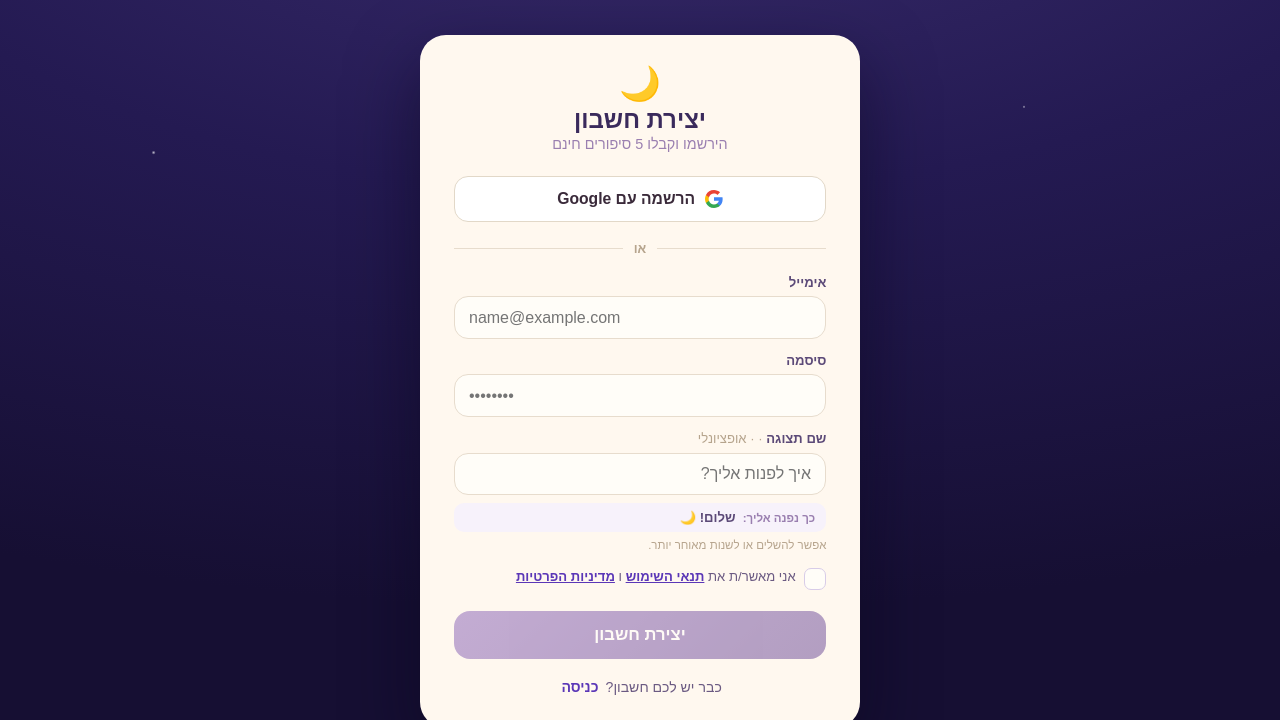
Scenario: Auth page — mobile/MIUI freeze guard › Google button shows '…' immediately after click (user sees feedback)
Click the button "הרשמה עם Google". click: click(640, 199)
box: [454,176,826,222]
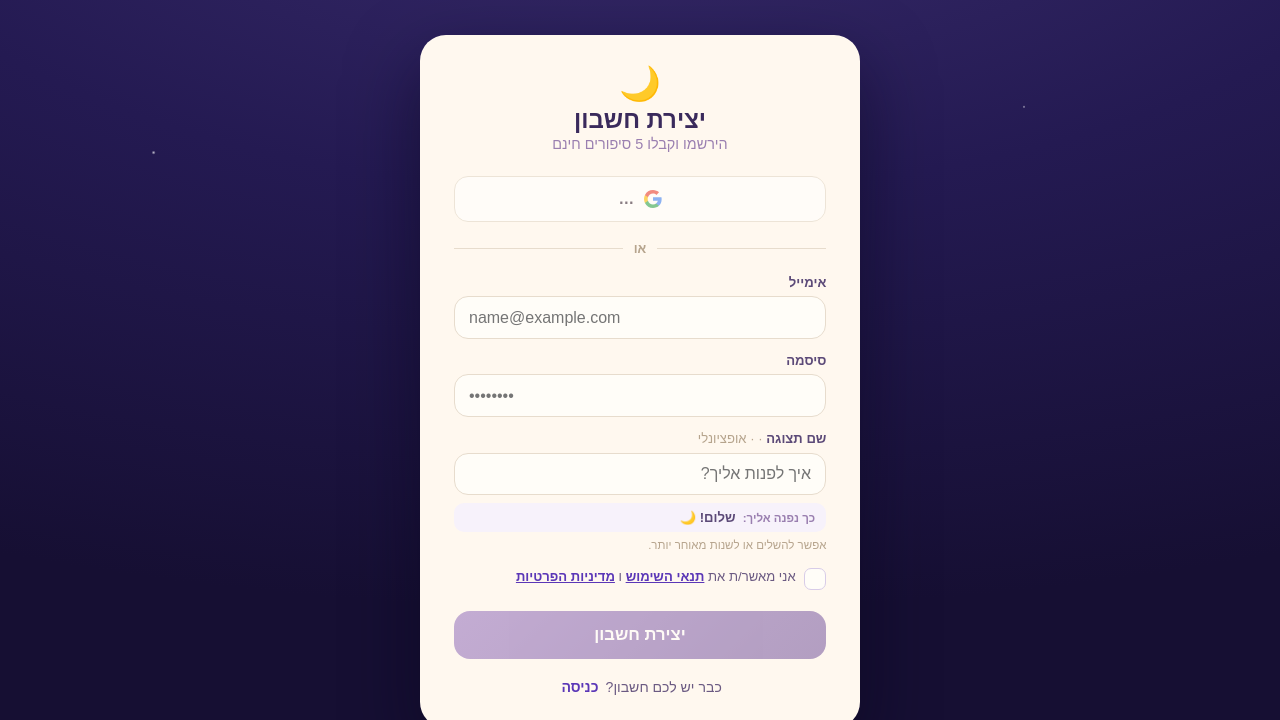
Expected: the button "…" is shown, [454,176,826,222]
